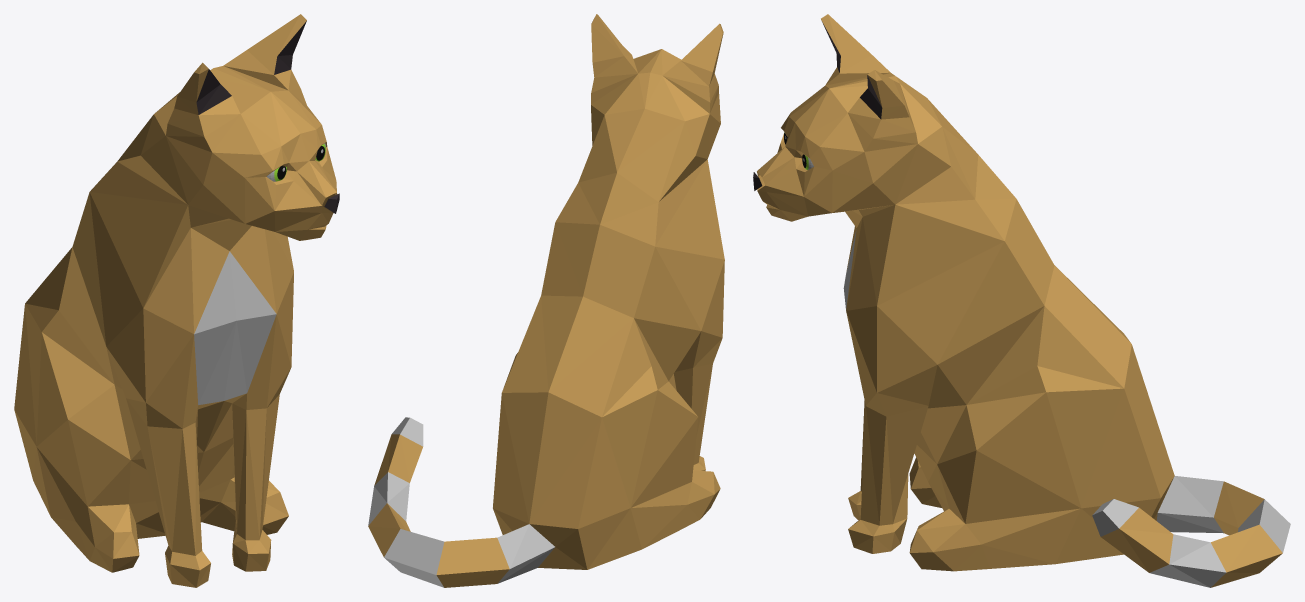
The model's file is Cat3.fbx.
3 renders of one model, left to right at view 1: azimuth 30°, elevation 25°; view 2: azimuth 150°, elevation 25°; view 3: azimuth 270°, elevation 25°, orthographic. The views are drawn at different scales.
Visible parts, largest first — view 1: Cat3; view 2: Cat3; view 3: Cat3.
Boxes of the visible parts, x1=… form: Cat3: x1=14, y1=14, x2=339, y2=587; Cat3: x1=368, y1=14, x2=724, y2=587; Cat3: x1=753, y1=14, x2=1290, y2=587.
Bounding box in the file's own units: 285 × 499 × 487.
